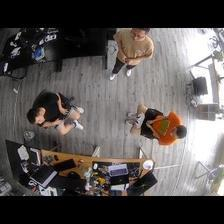normal: (26, 88, 85, 137), (125, 104, 187, 150), (111, 27, 157, 81)
